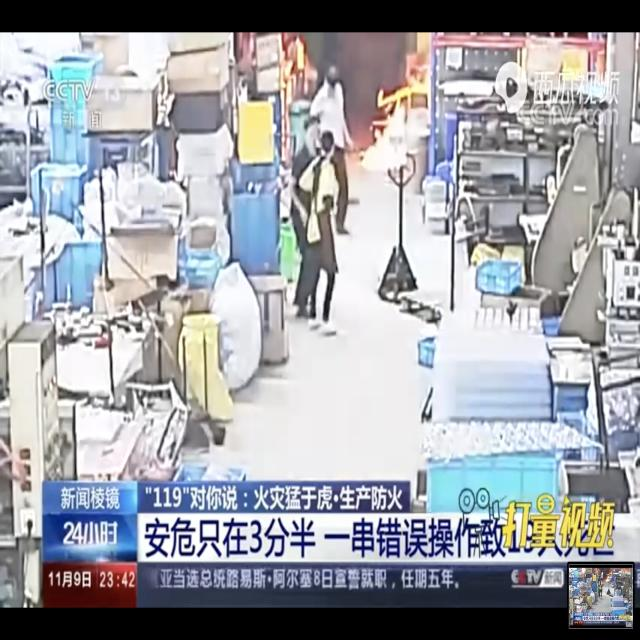Fogo: (356, 65, 431, 196)
